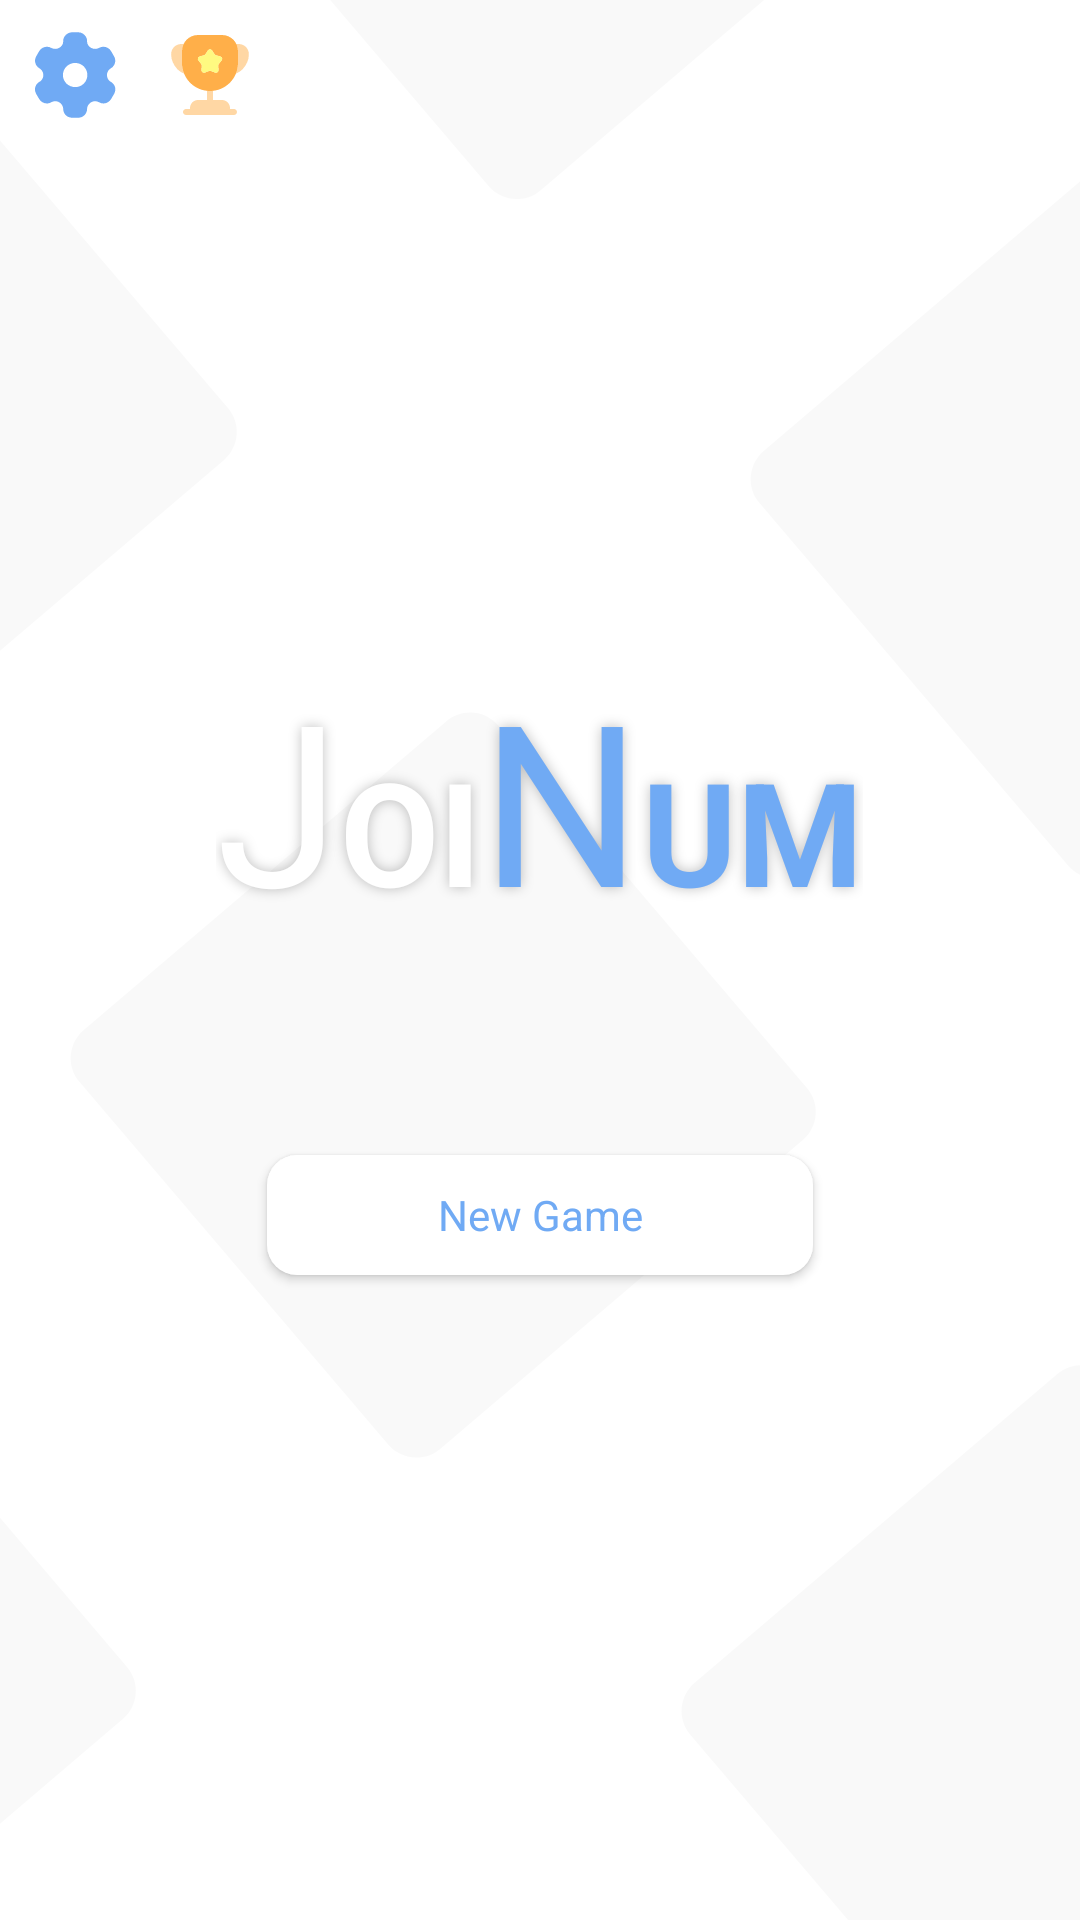

Locate icon controls on the screen. Image size 1080px×1920px, boxes as Rect(x1, y1, x2, y2).
Settings: Rect(35, 32, 116, 118)
